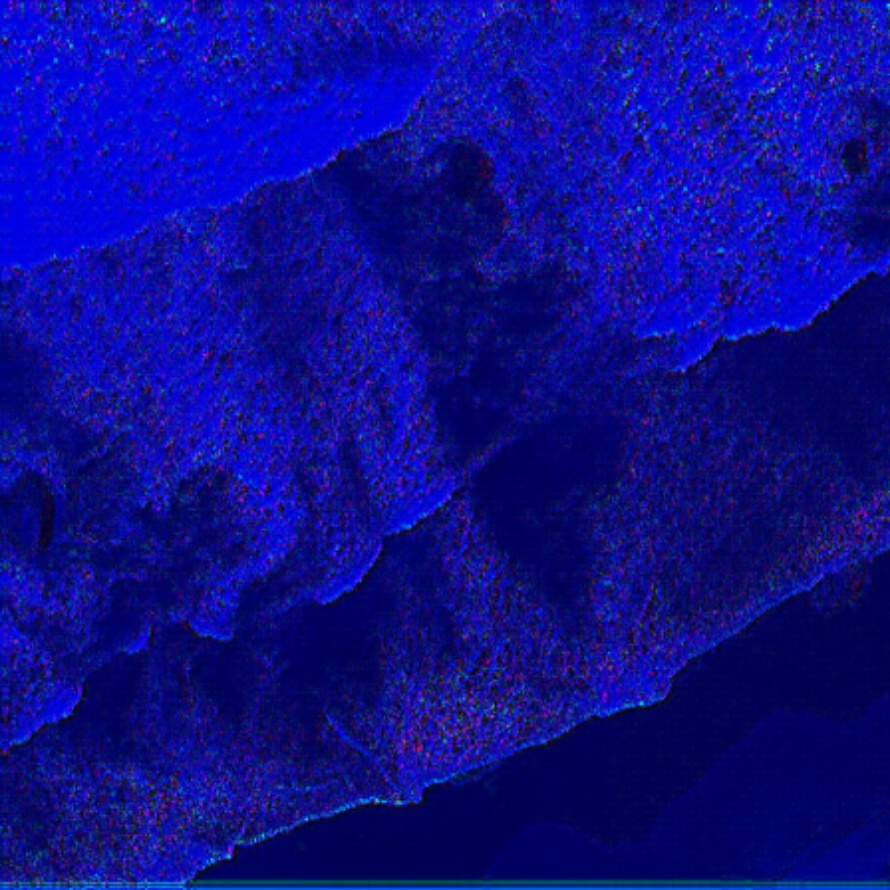rip_current: (284, 115, 639, 602)
